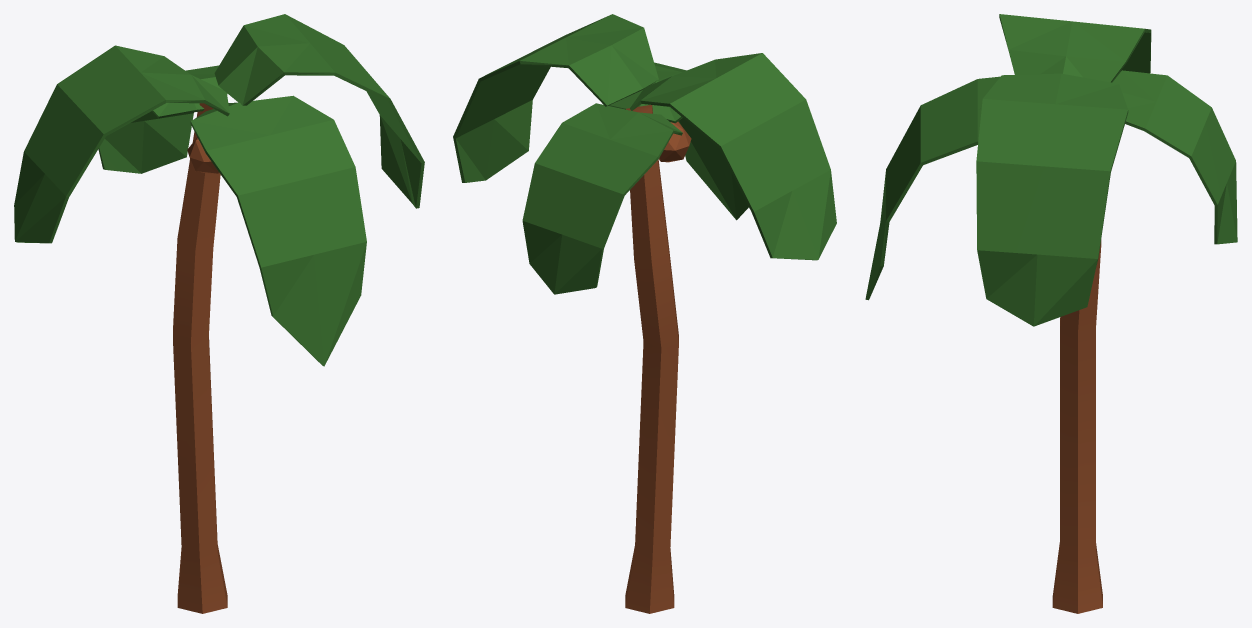
The model's file is bunker47-prop-palm01.glb.
The picture shows the model from 3 angles, left to right: view 1: azimuth 30°, elevation 25°; view 2: azimuth 150°, elevation 25°; view 3: azimuth 270°, elevation 25°; orthographic projection. The views are drawn at different scales.
Parts seen in each view (by area): view 1: Tree_Tropic_001; view 2: Tree_Tropic_001; view 3: Tree_Tropic_001.
Part boxes in pixels (box(x1,y1,x2,y2)): Tree_Tropic_001: box(14, 14, 424, 613); Tree_Tropic_001: box(453, 14, 836, 613); Tree_Tropic_001: box(865, 14, 1237, 613).
Bounding box in the file's own units: 362 × 513 × 314.
1 material, 1 textured.
